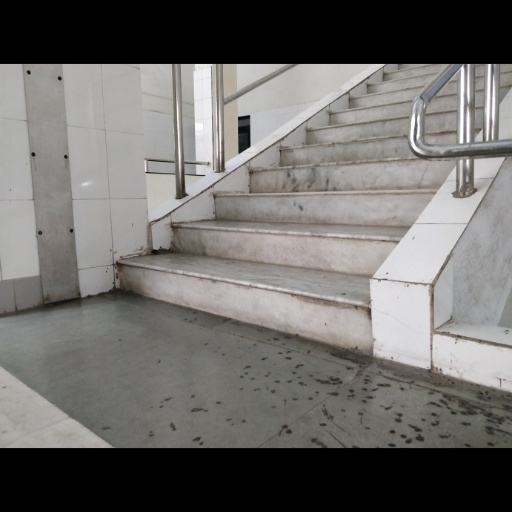Stairs: (120, 66, 453, 354)
